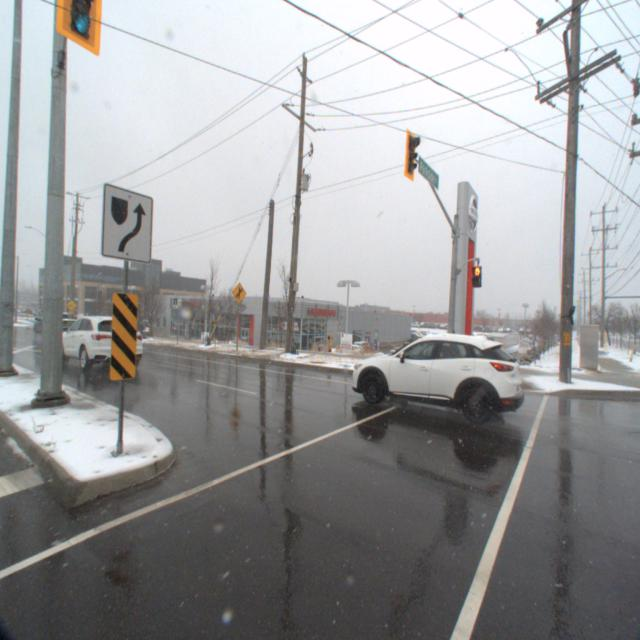Car: (349, 322, 535, 432), (46, 312, 147, 373)
Truck: (28, 313, 78, 348)
